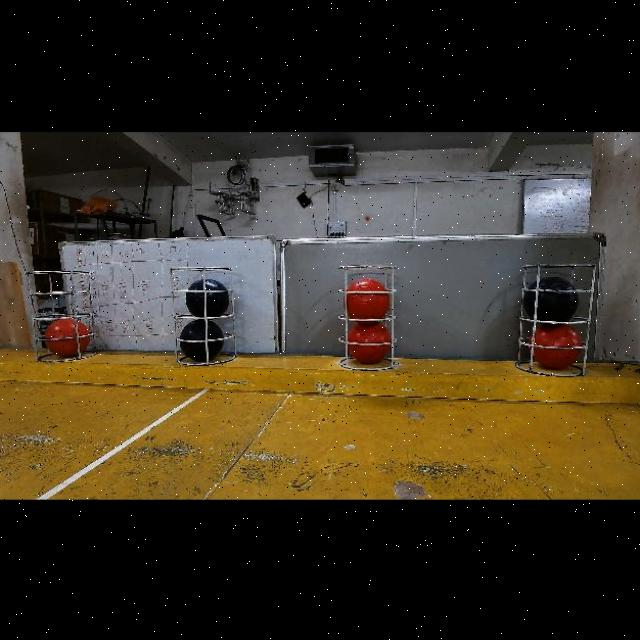P: (522, 277, 579, 323), (179, 319, 223, 362), (185, 279, 230, 317)
R: (529, 324, 584, 370), (347, 323, 391, 365), (347, 278, 390, 320), (44, 319, 90, 358)
S: (510, 254, 596, 386), (334, 266, 394, 376), (166, 263, 230, 365), (35, 274, 91, 366)
